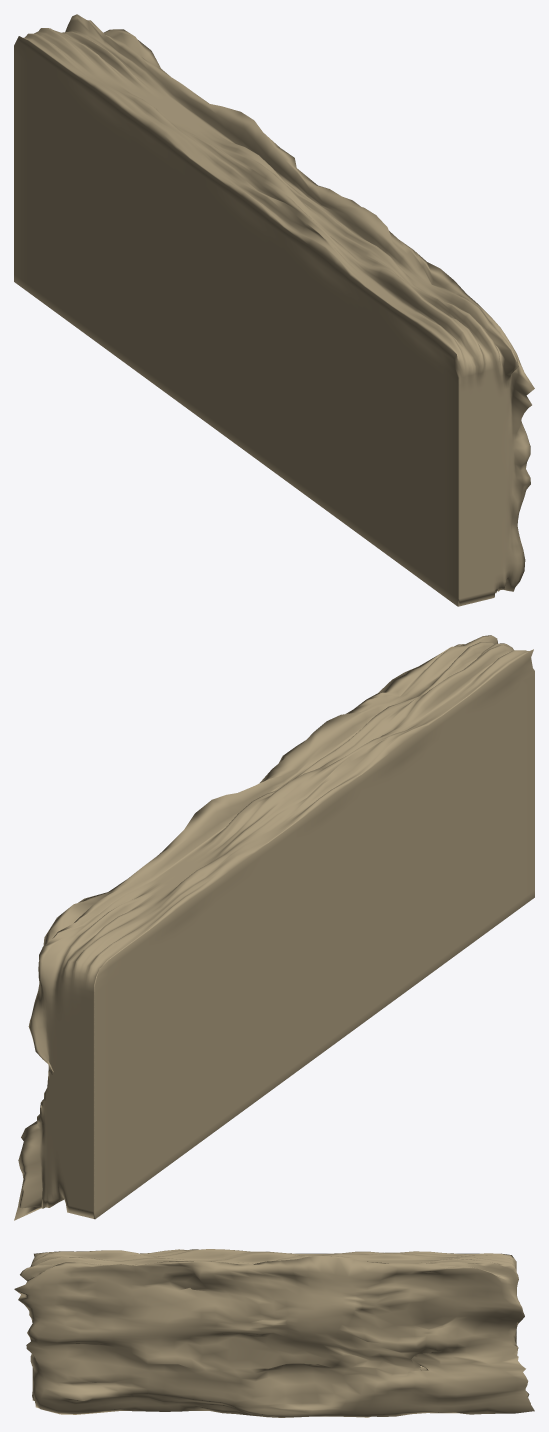
File: RockWall.fbx
3 views of the same model, one above another, from view 1: azimuth 30°, elevation 25°; view 2: azimuth 150°, elevation 25°; view 3: azimuth 270°, elevation 25° (orthographic). The views are drawn at different scales.
Visible parts, largest first — view 1: Cube; view 2: Cube; view 3: Cube.
Part boxes in pixels (box(x1,y1,x2,y2)): Cube: box(14, 14, 534, 606); Cube: box(14, 635, 534, 1220); Cube: box(14, 1249, 534, 1417).
Size of the model in its own units: 720 by 2068 by 6129.
